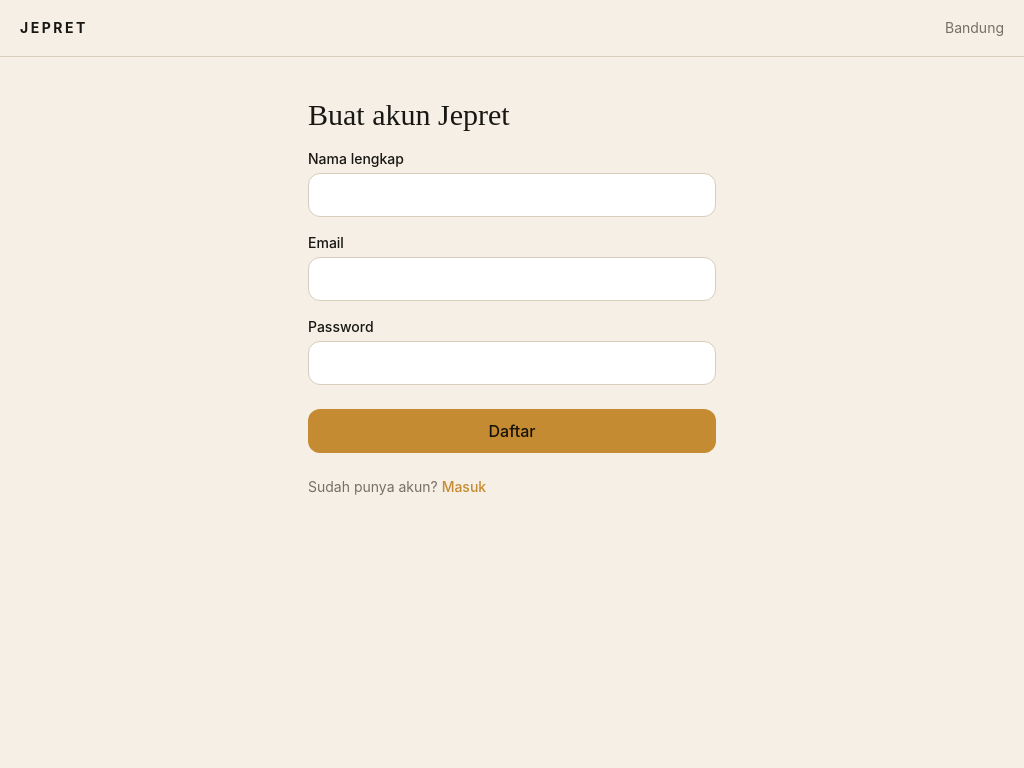
Test case: DaftarPage › shows validation errors for empty submit
What coordinates should you click on to do the following:
click the button "Daftar"
I would click on:
 (512, 431)
Its box is x1=308 y1=409 x2=716 y2=453.
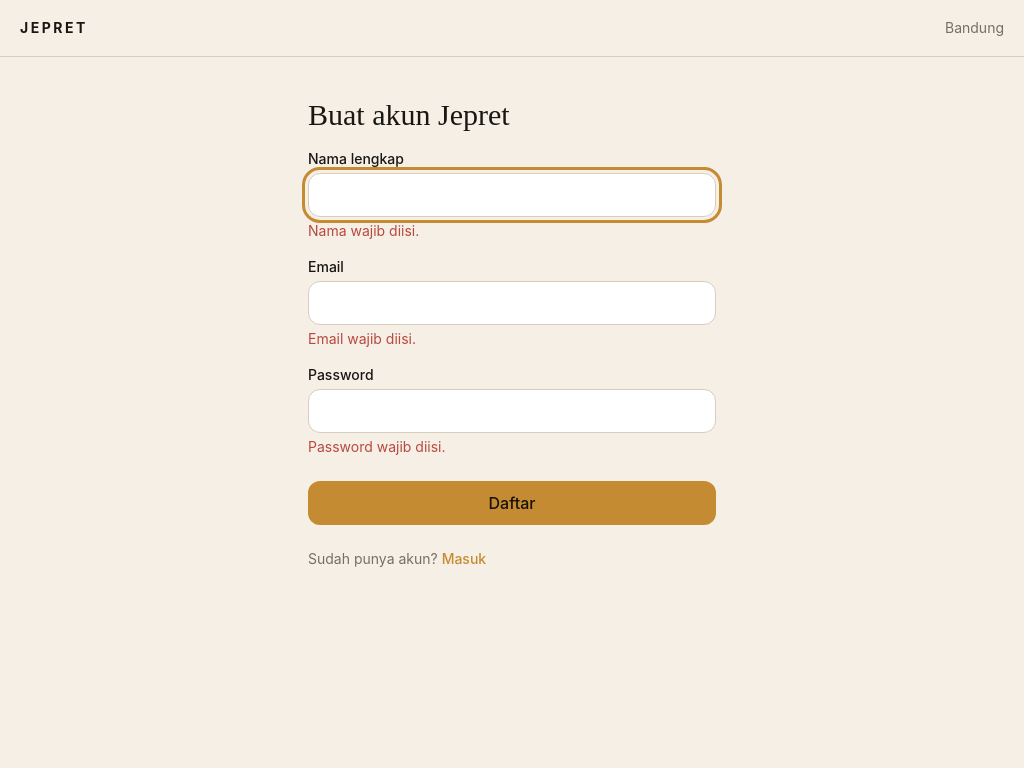
Expected: the text "Nama wajib diisi." is shown, x1=308 y1=222 x2=419 y2=239
Expected: the text "Email wajib diisi." is shown, x1=308 y1=330 x2=416 y2=347
Expected: the text "Password wajib diisi." is shown, x1=308 y1=438 x2=446 y2=455
